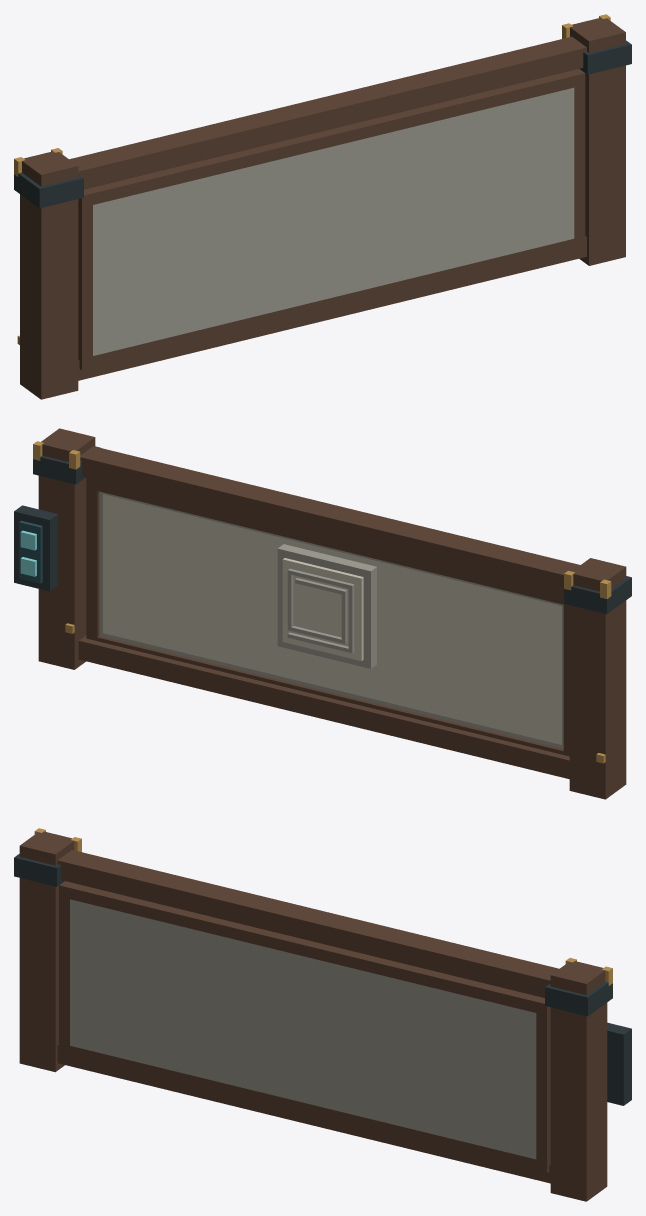
The picture shows the model from 3 angles, top to bottom: view 1: azimuth 30°, elevation 25°; view 2: azimuth 150°, elevation 25°; view 3: azimuth 330°, elevation 25°; orthographic projection. The views are drawn at different scales.
Parts seen in each view (by area): view 1: 床头靠板; view 2: 床头靠板; view 3: 床头靠板.
Part boxes in pixels (bbox=[...]): 床头靠板: bbox=[14, 14, 631, 399]; 床头靠板: bbox=[14, 428, 631, 799]; 床头靠板: bbox=[14, 828, 631, 1201].
Size of the model in its own units: 1.63 by 0.58 by 0.18.
Materials: 7 (7 with a texture image).
